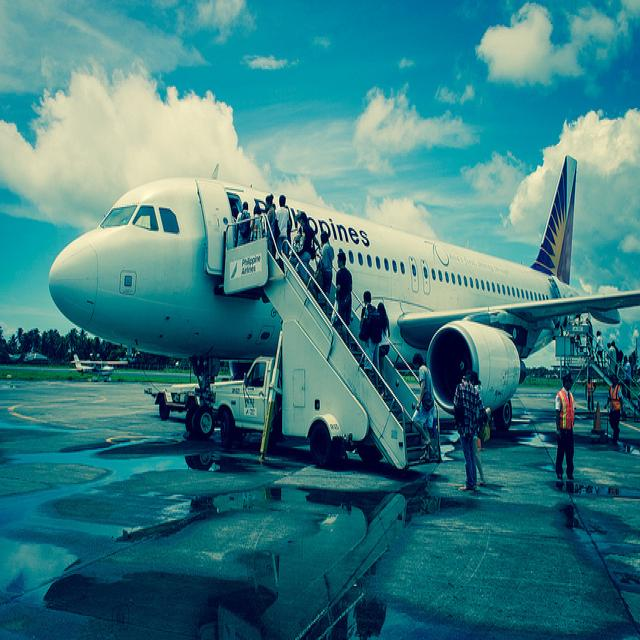Vehicle: (211, 320, 382, 470)
